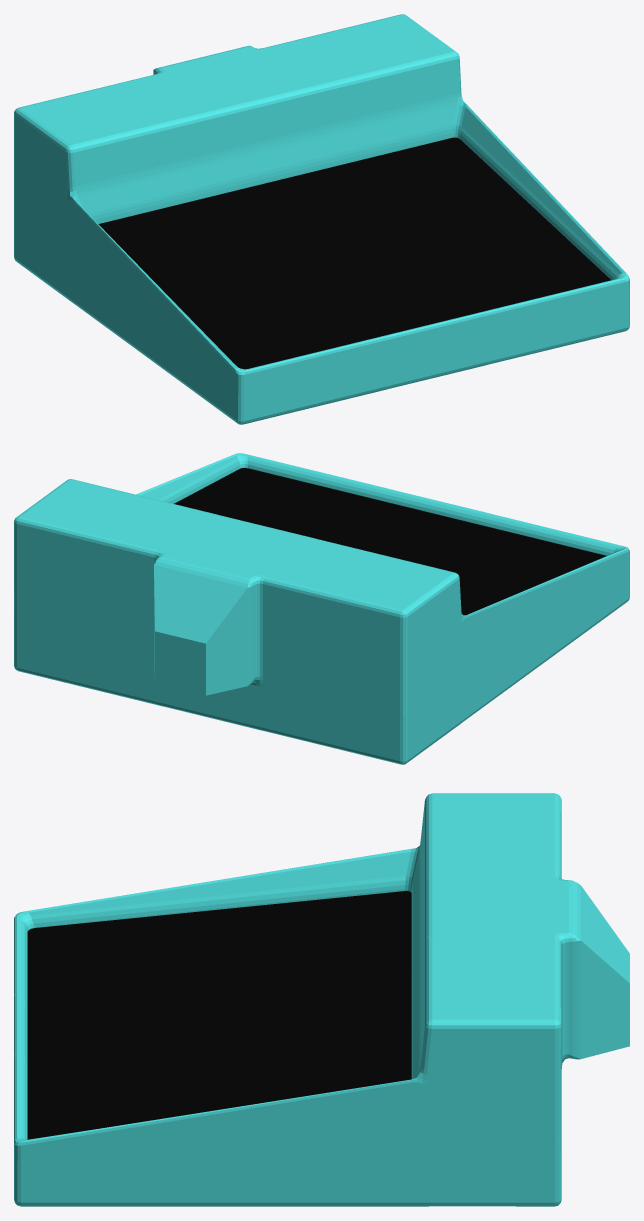
Rendered from small ground collector.fbx.
3 views of the same model, one above another, from view 1: azimuth 30°, elevation 25°; view 2: azimuth 150°, elevation 25°; view 3: azimuth 270°, elevation 25° (orthographic). The views are drawn at different scales.
Visible parts, largest first — view 1: Cube, Plane; view 2: Cube, Plane; view 3: Cube, Plane.
Part boxes in pixels (left/top/right/bottom): Cube: left=14, top=14, right=629, bottom=424; Plane: left=98, top=137, right=610, bottom=369; Cube: left=14, top=453, right=629, bottom=764; Plane: left=174, top=468, right=606, bottom=615; Cube: left=14, top=793, right=629, bottom=1206; Plane: left=27, top=891, right=411, bottom=1139.
Size of the model in its own units: 400 by 150 by 450.
